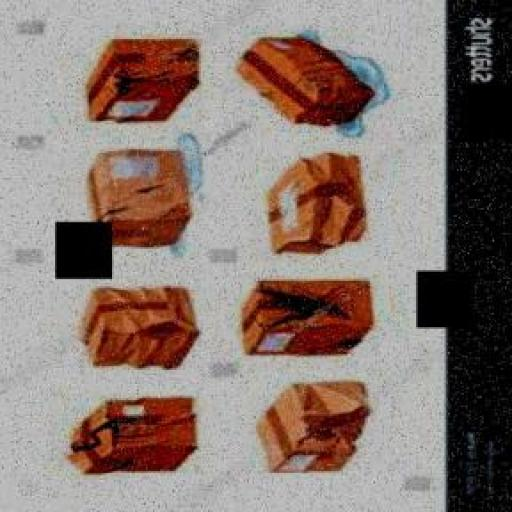box: (228, 268, 402, 386), (230, 372, 404, 490), (36, 143, 210, 261), (226, 149, 400, 265), (222, 28, 396, 144), (46, 268, 220, 383), (48, 387, 222, 502), (34, 26, 208, 141)
